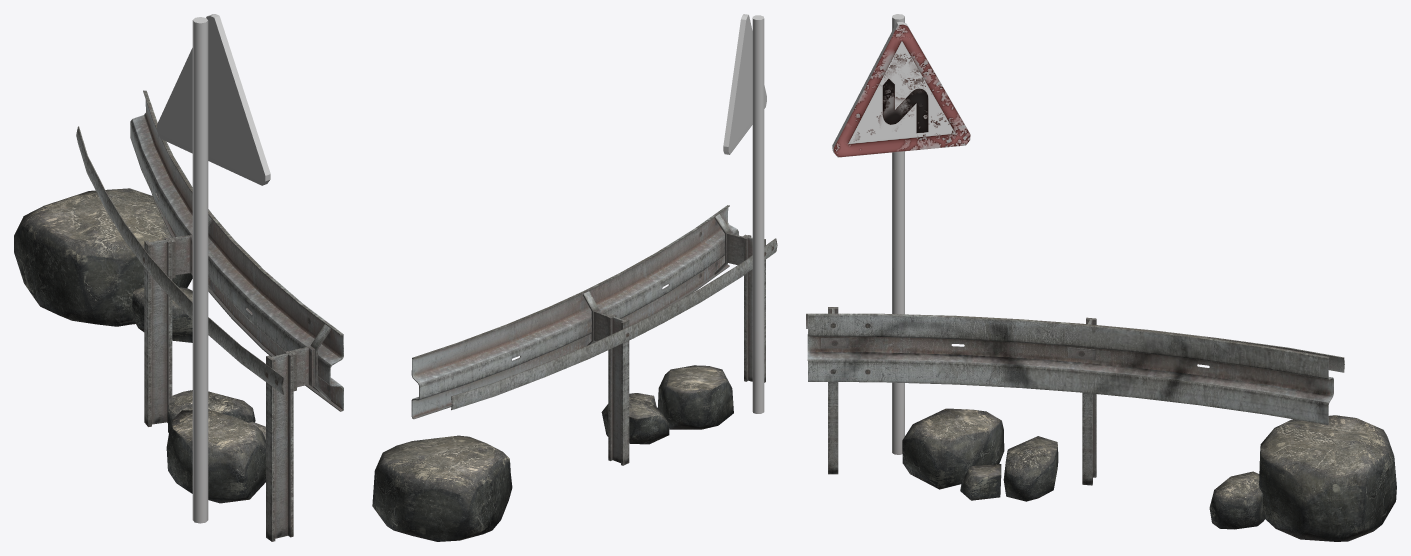
Rendered from props.glb.
3 views of the same model, side by side, from view 1: azimuth 30°, elevation 25°; view 2: azimuth 150°, elevation 25°; view 3: azimuth 270°, elevation 25° (orthographic). The views are drawn at different scales.
Visible parts, largest first — view 1: Esport:sm_RailGuard_Ext_13_Dup_42_lambert2_0.001, smallrock2_smallrocks_0, polySurface7_Traffic_Signs_0.001; view 2: Esport:sm_RailGuard_Ext_13_Dup_42_lambert2_0.001, smallrock2_smallrocks_0, polySurface7_Traffic_Signs_0.001; view 3: Esport:sm_RailGuard_Ext_13_Dup_42_lambert2_0.001, smallrock2_smallrocks_0, polySurface7_Traffic_Signs_0.001.
Part boxes in pixels (x1,y1,x2,y2): Esport:sm_RailGuard_Ext_13_Dup_42_lambert2_0.001: [76, 90, 343, 541]; smallrock2_smallrocks_0: [14, 188, 265, 503]; polySurface7_Traffic_Signs_0.001: [157, 14, 270, 523]; Esport:sm_RailGuard_Ext_13_Dup_42_lambert2_0.001: [411, 205, 777, 465]; smallrock2_smallrocks_0: [372, 365, 733, 541]; polySurface7_Traffic_Signs_0.001: [723, 14, 766, 413]; Esport:sm_RailGuard_Ext_13_Dup_42_lambert2_0.001: [806, 307, 1344, 485]; smallrock2_smallrocks_0: [902, 408, 1396, 541]; polySurface7_Traffic_Signs_0.001: [832, 14, 970, 454].
Size of the model in its own units: 1.55 by 3.15 by 3.87.
Materials: 3 (3 with a texture image).
